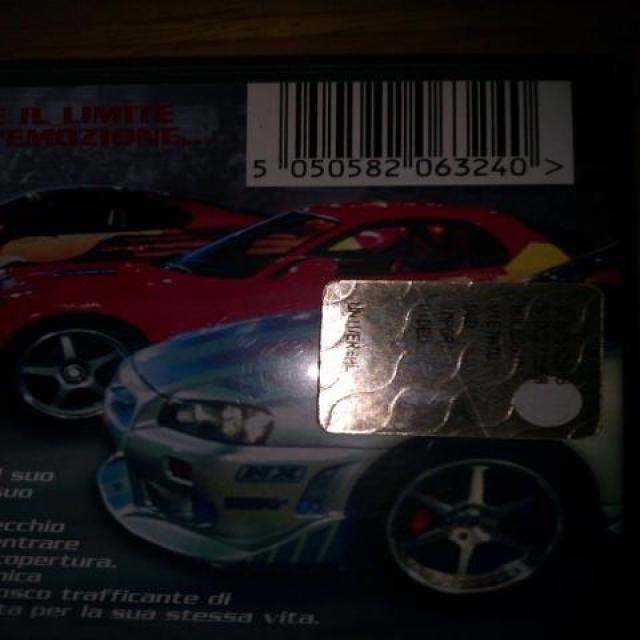Barcode: (247, 76, 576, 185)
